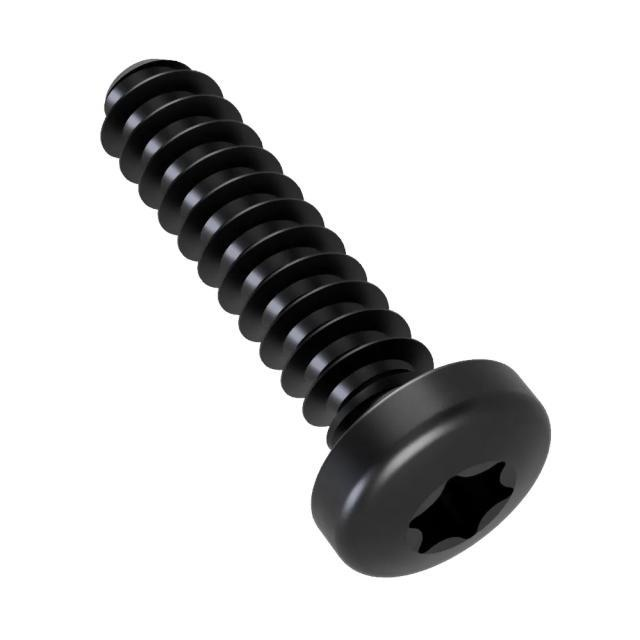torx: (310, 360, 554, 580)
